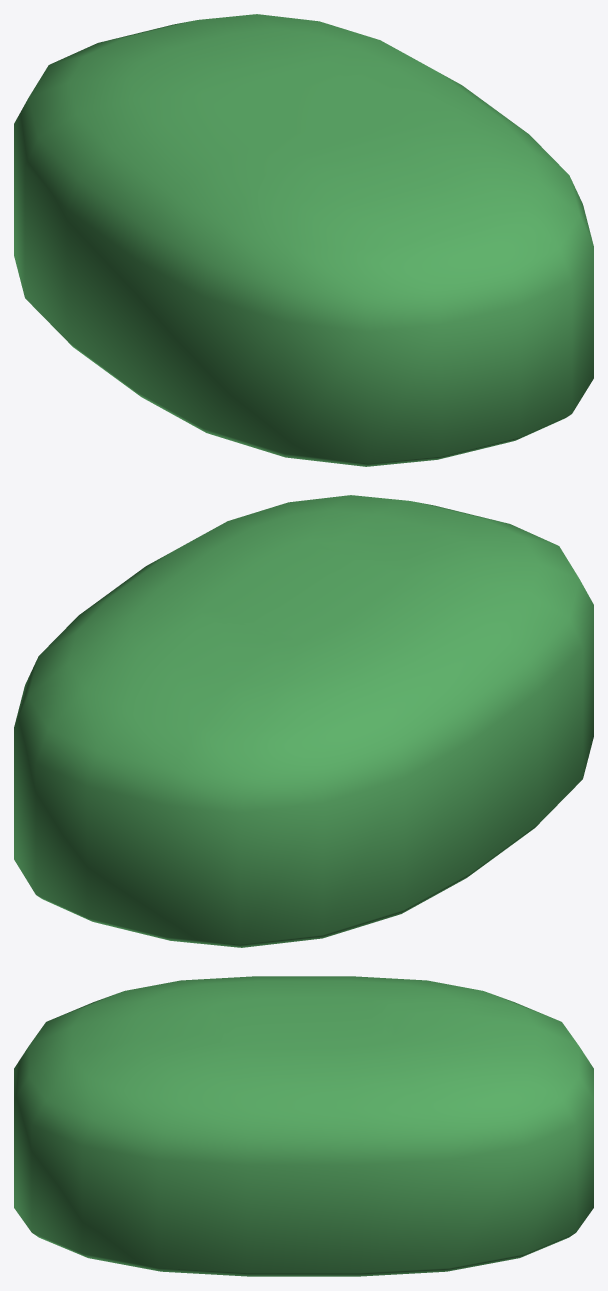
The model's file is team mouse.fbx.
3 views of the same model, one above another, from view 1: azimuth 30°, elevation 25°; view 2: azimuth 150°, elevation 25°; view 3: azimuth 270°, elevation 25° (orthographic). The views are drawn at different scales.
Parts seen in each view (by area): view 1: mouse; view 2: mouse; view 3: mouse.
Part boxes in pixels (box(x1,y1,x2,y2)): mouse: box(14, 14, 593, 466); mouse: box(14, 495, 593, 947); mouse: box(14, 976, 593, 1276).
Bounding box in the file's own units: 26.22 × 13.43 × 39.79.
1 material, 1 textured.
